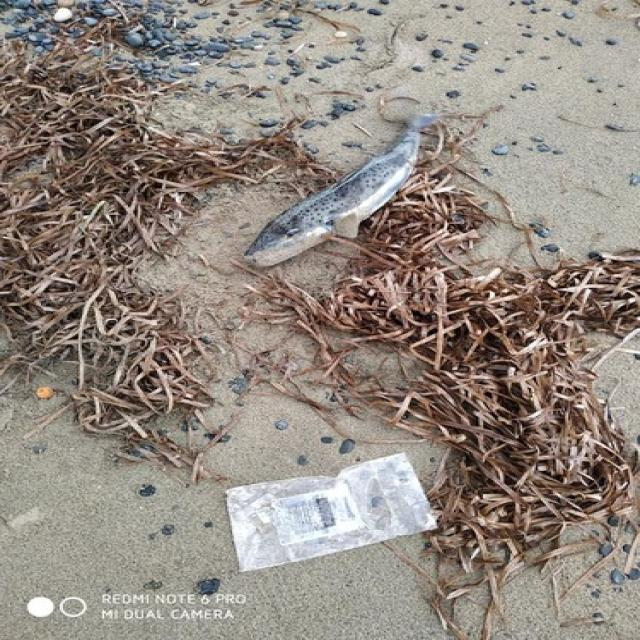Balik: (245, 114, 436, 267)
